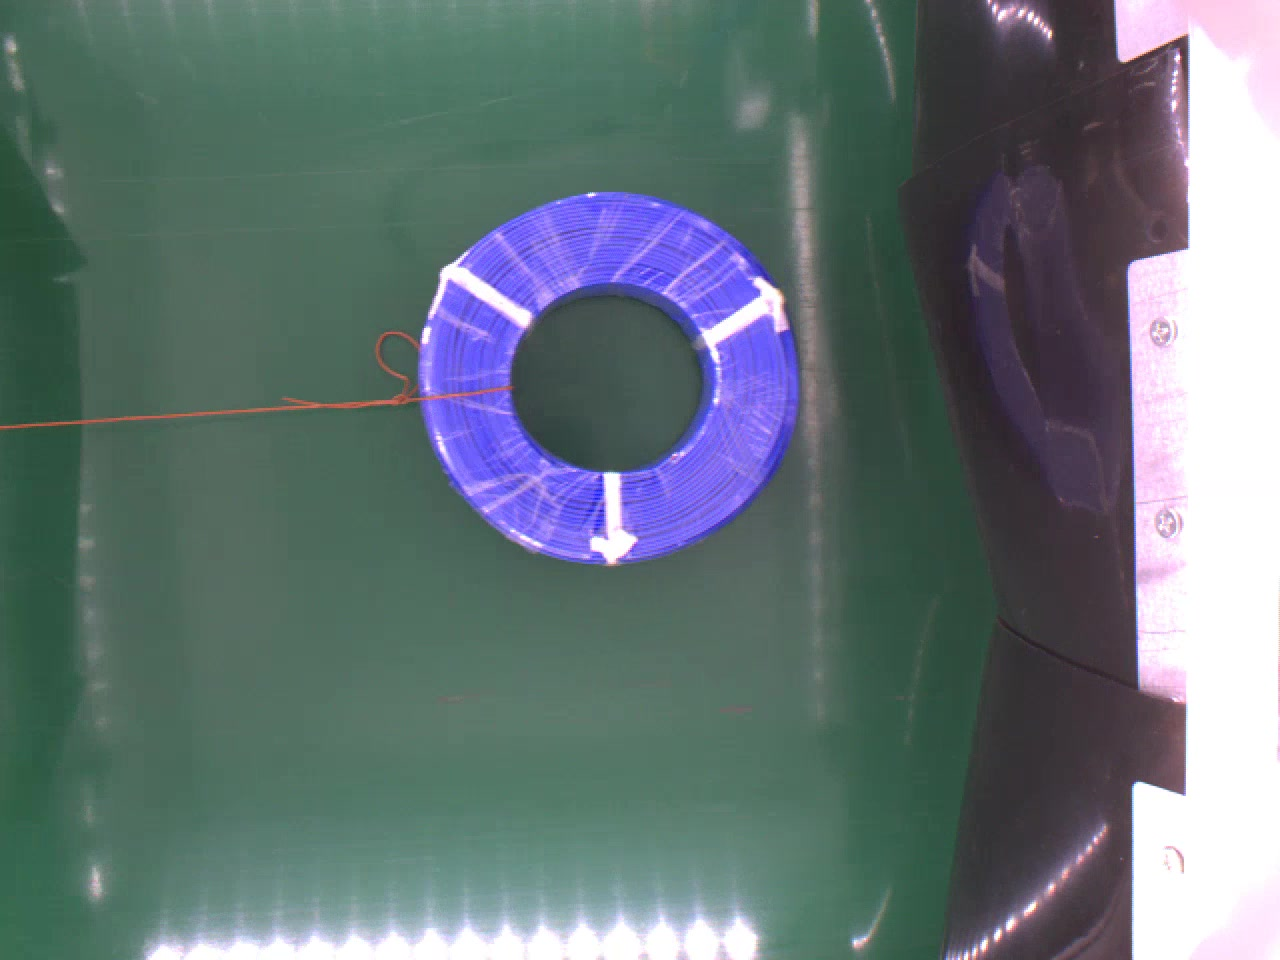blue: (417, 187, 803, 563)
